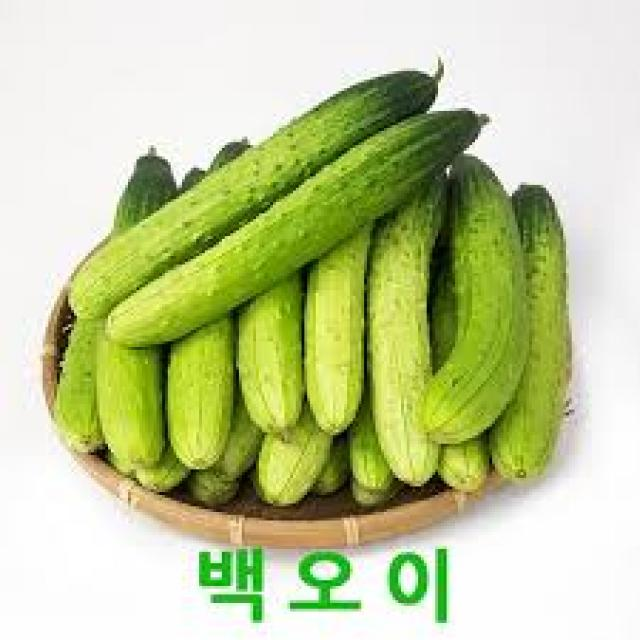cucumber: (71, 71, 441, 317), (108, 111, 489, 348), (416, 139, 526, 444)
